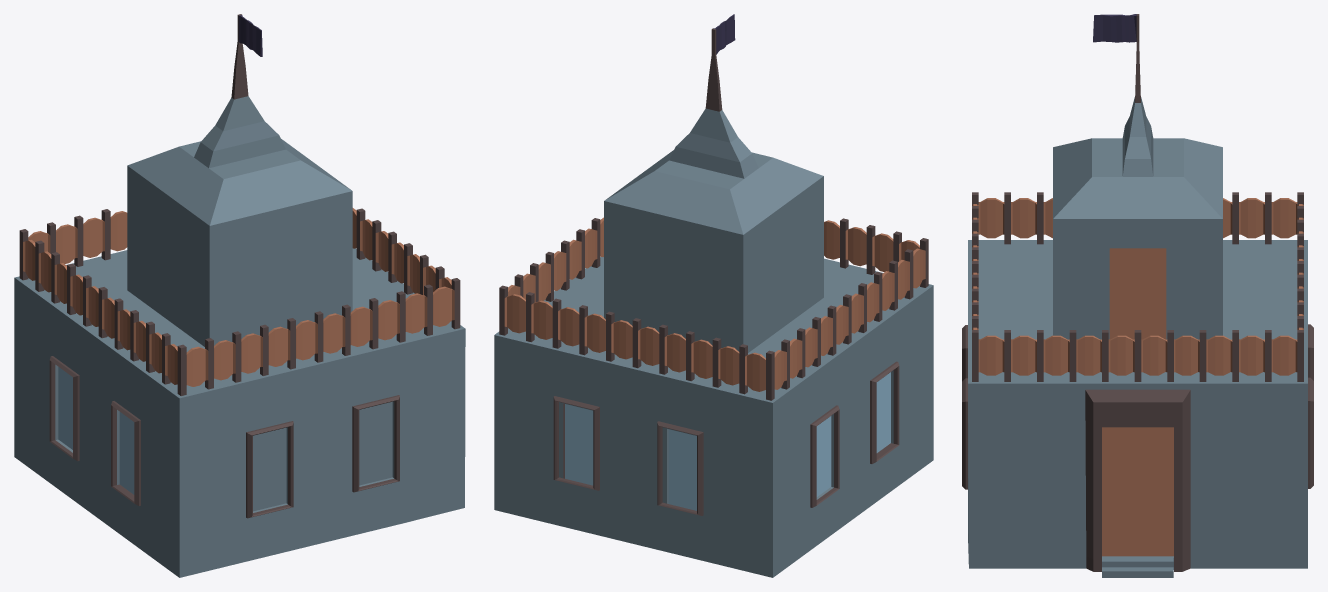
Rendered from Stone House.fbx.
The picture shows the model from 3 angles, left to right: view 1: azimuth 30°, elevation 25°; view 2: azimuth 150°, elevation 25°; view 3: azimuth 270°, elevation 25°; orthographic projection. The views are drawn at different scales.
Visible parts, largest first — view 1: Lower Level, Upper Level, Railling, Roof, Base Layout; view 2: Lower Level, Upper Level, Railling, Roof, Base Layout; view 3: Lower Level, Upper Level, Railling, Roof, Base Layout.
Part boxes in pixels (bbox=[...]): Lower Level: bbox=[14, 284, 465, 565]; Upper Level: bbox=[127, 14, 352, 346]; Railling: bbox=[19, 208, 460, 395]; Roof: bbox=[14, 248, 465, 404]; Base Layout: bbox=[14, 445, 464, 577]; Lower Level: bbox=[494, 291, 933, 566]; Upper Level: bbox=[604, 14, 823, 352]; Railling: bbox=[499, 217, 928, 400]; Roof: bbox=[494, 257, 933, 408]; Base Layout: bbox=[494, 449, 933, 577]; Lower Level: bbox=[962, 324, 1313, 571]; Upper Level: bbox=[1053, 14, 1222, 339]; Railling: bbox=[972, 192, 1303, 381]; Roof: bbox=[968, 240, 1307, 389]; Base Layout: bbox=[968, 531, 1307, 577].
Bounding box in the file's own units: 517 × 541 × 782.
